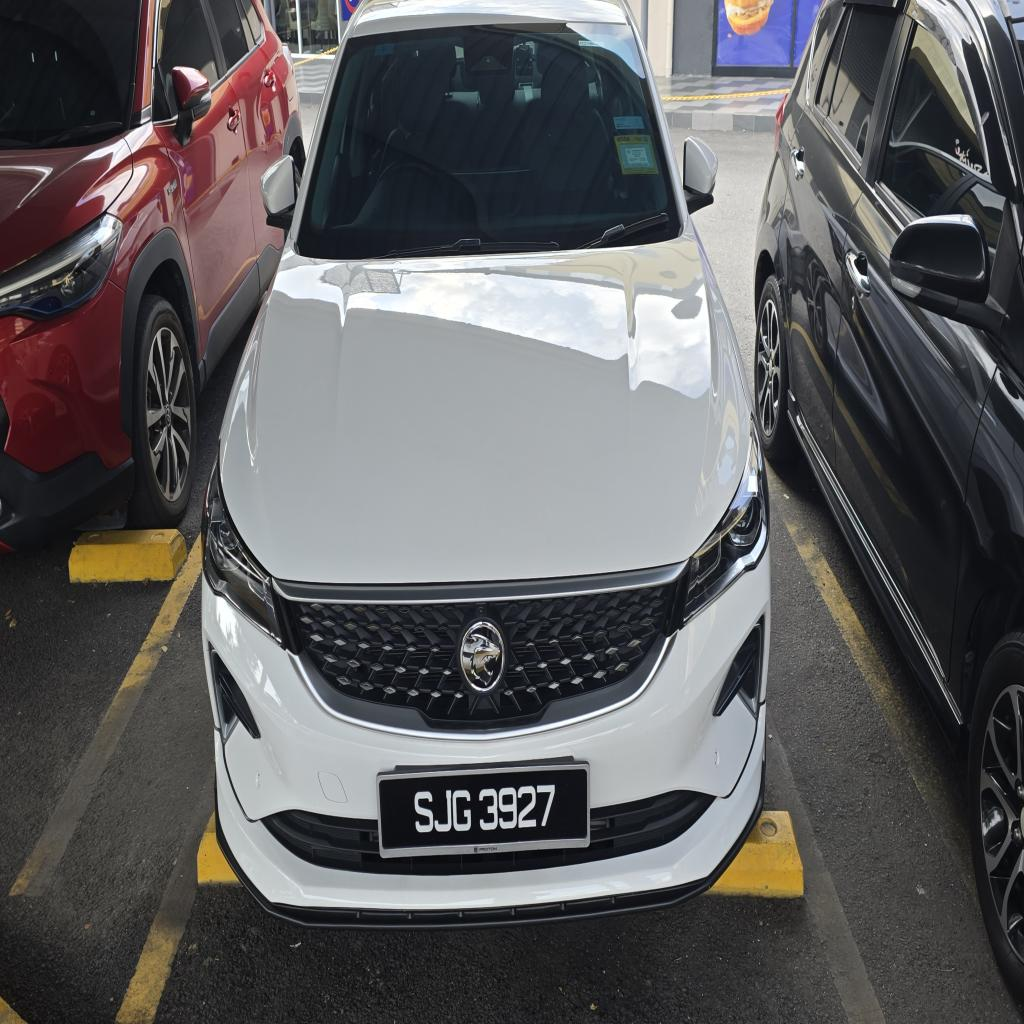car: (202, 0, 770, 928)
car plate: (379, 763, 589, 857)
